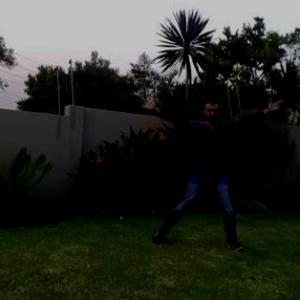takeoff: (139, 89, 290, 251)
